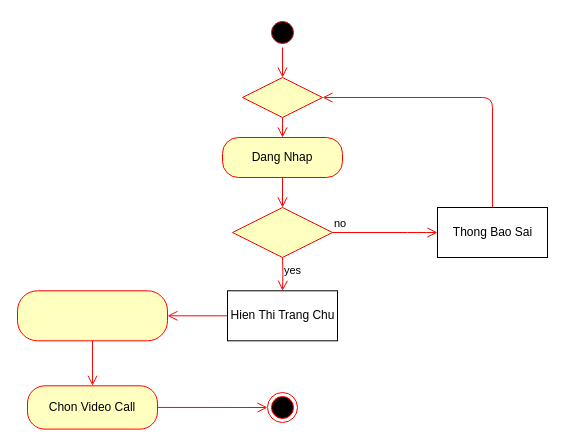
Image size: 565x447. Some labels were removed from this diagram. Each missing label, with the centre of its shape:
"Chon Nhom Chat" belongs at pixel 92 315.
"Kiem Tra TK" belongs at pixel 282 232.
